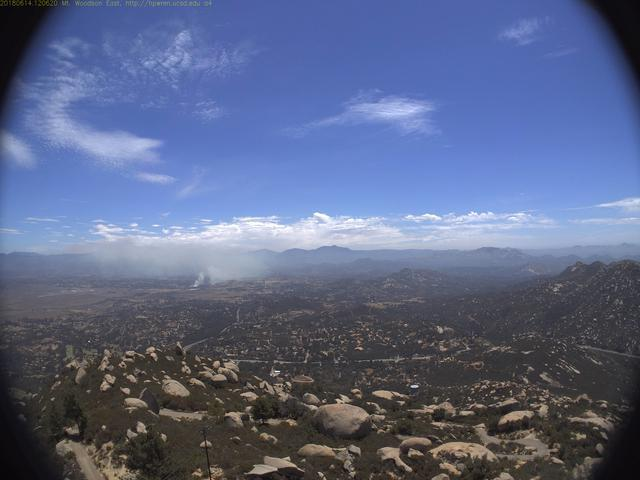smoke: (100, 232, 272, 288)
